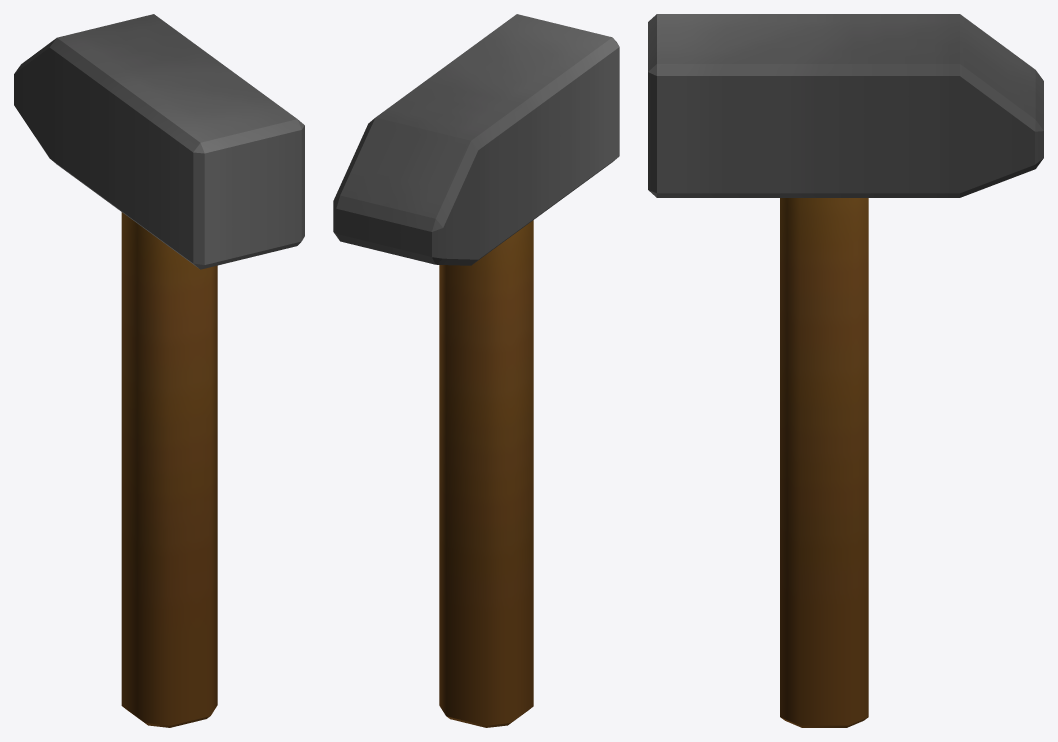
Rendered from Hamer_1.fbx.
3 views of the same model, side by side, from view 1: azimuth 30°, elevation 25°; view 2: azimuth 150°, elevation 25°; view 3: azimuth 270°, elevation 25° (orthographic). The views are drawn at different scales.
Parts seen in each view (by area): view 1: Hamer_1; view 2: Hamer_1; view 3: Hamer_1.
Boxes of the visible parts, x1,y1,x2,y2 form: Hamer_1: (14, 14, 304, 727); Hamer_1: (333, 14, 619, 727); Hamer_1: (648, 14, 1043, 727).
Size of the model in its own units: 6.1 by 33.26 by 17.75.
